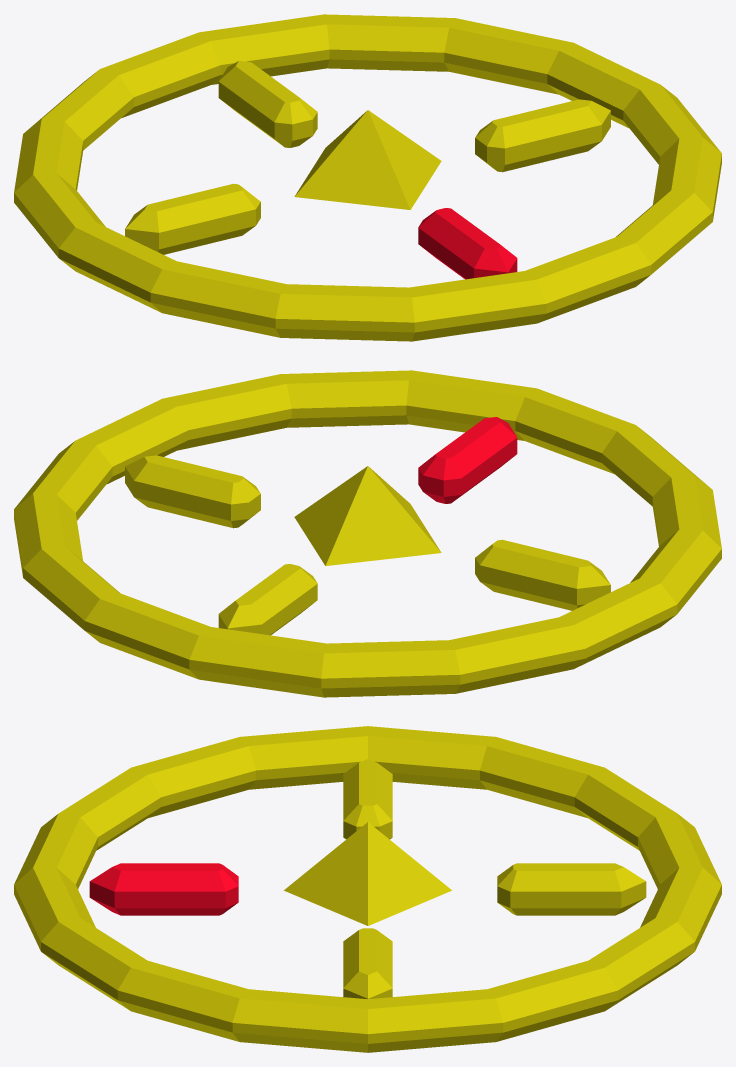
Rendered from compass_0.glb.
3 views of the same model, one above another, from view 1: azimuth 30°, elevation 25°; view 2: azimuth 150°, elevation 25°; view 3: azimuth 270°, elevation 25° (orthographic).
Parts seen in each view (by area): view 1: compass_moving_-Y_in_blender_is_north, compass_static; view 2: compass_moving_-Y_in_blender_is_north, compass_static; view 3: compass_moving_-Y_in_blender_is_north, compass_static.
Boxes of the visible parts, x1,y1,x2,y2 form: compass_moving_-Y_in_blender_is_north: [14, 14, 721, 341]; compass_static: [294, 110, 441, 209]; compass_moving_-Y_in_blender_is_north: [14, 370, 721, 697]; compass_static: [294, 466, 441, 565]; compass_moving_-Y_in_blender_is_north: [14, 726, 721, 1052]; compass_static: [284, 822, 451, 925].
Size of the model in its own units: 0.8493 by 0.1191 by 0.8493.
